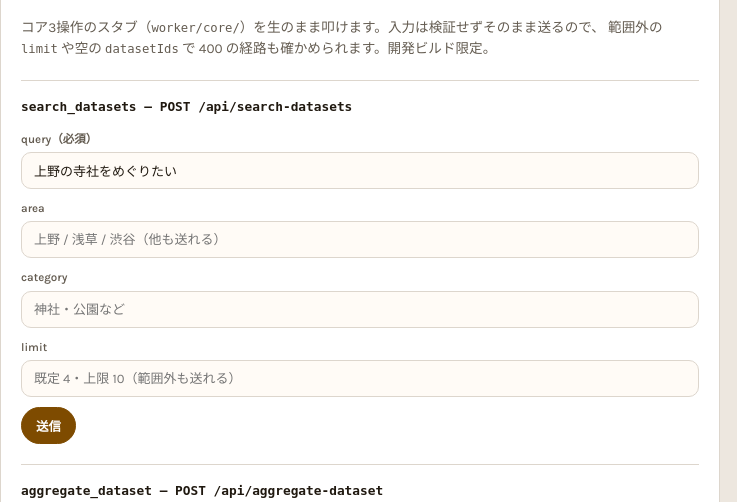
Test: ApiConsole › answered 応答は「回答あり」として生 JSON つきで表示される
This screenshot has width=737, height=502.
What coordinates should you click on to do the following:
click the button "送信" below "category"
I would click on:
 (48, 426)
Its box is [21,407,76,444].
(page scrolled)
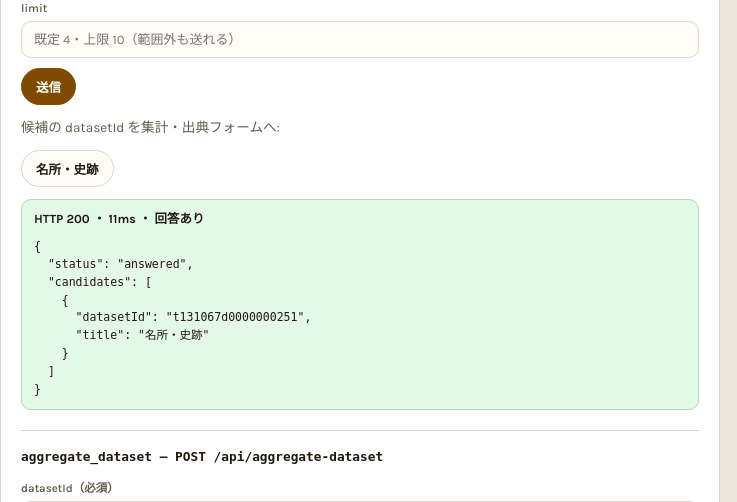
Check: the text "HTTP 200 ・ 11ms ・ 回答あり" is shown, box [34,212,204,226]
Check: the text "t131067d0000000251" is shown, box [34,239,311,396]
